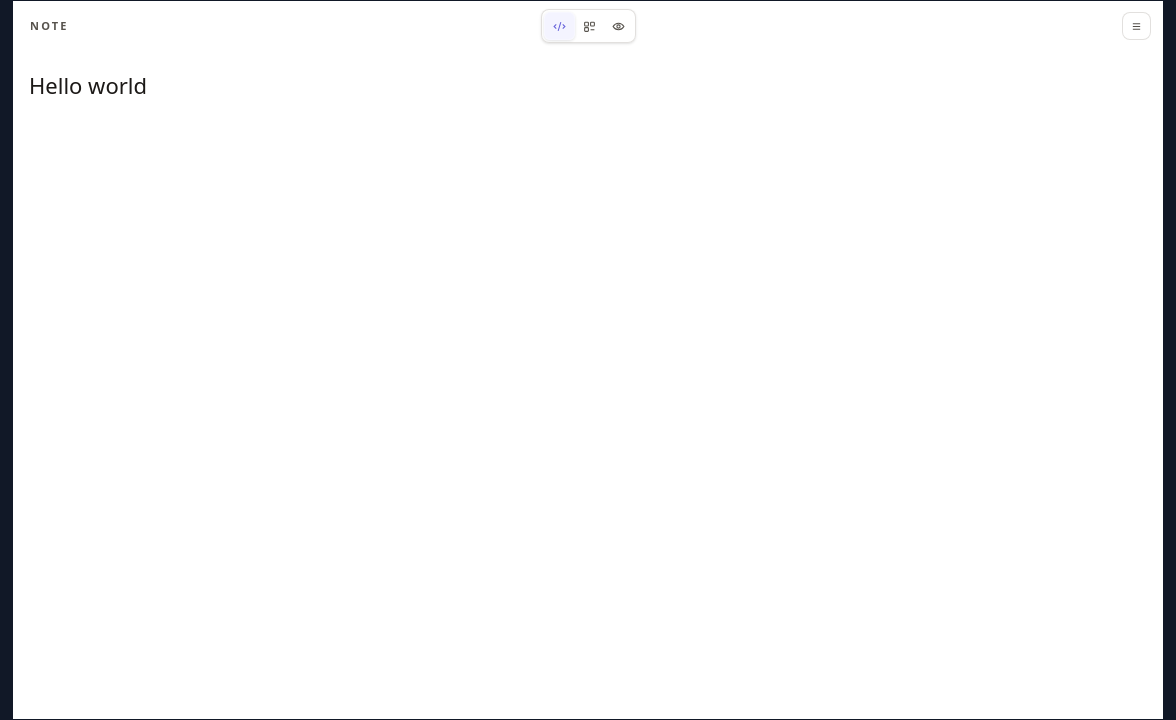
Scenario: MarkdownNoteContainer › boosts readability in shell mode without changing the note settings
Click the button named "Options" at (1136, 26), box x1=1122 y1=12 x2=1151 y2=40
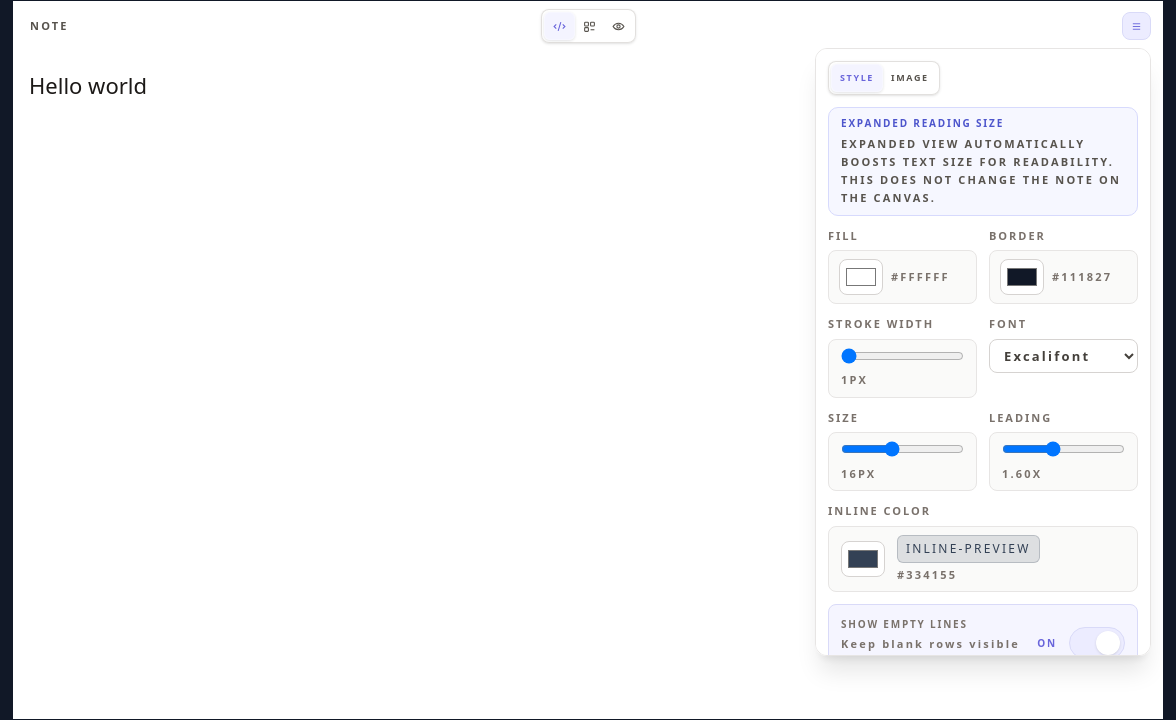
Expected: the text "Expanded view automatically boosts text size" is shown, x1=841 y1=136 x2=1121 y2=205
